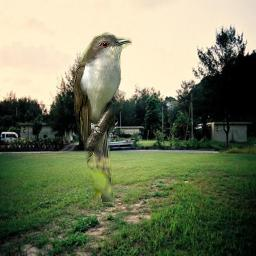Cuckoo: (74, 29, 132, 202)
